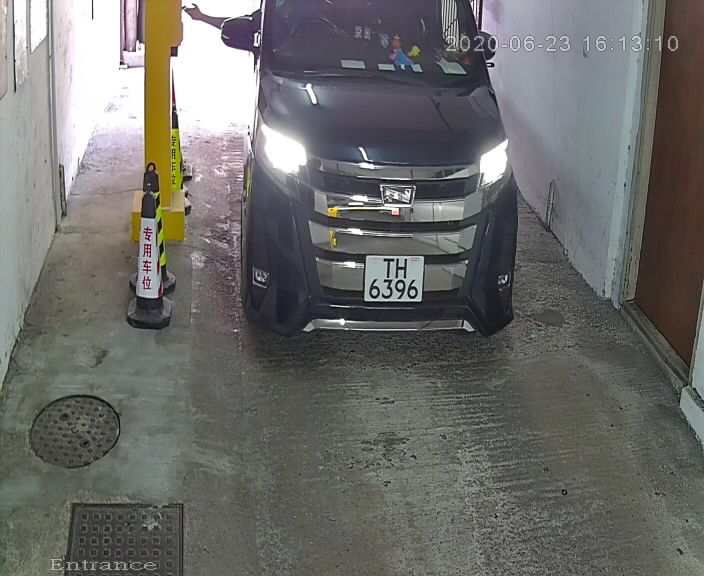privatecar: (212, 1, 532, 361)
